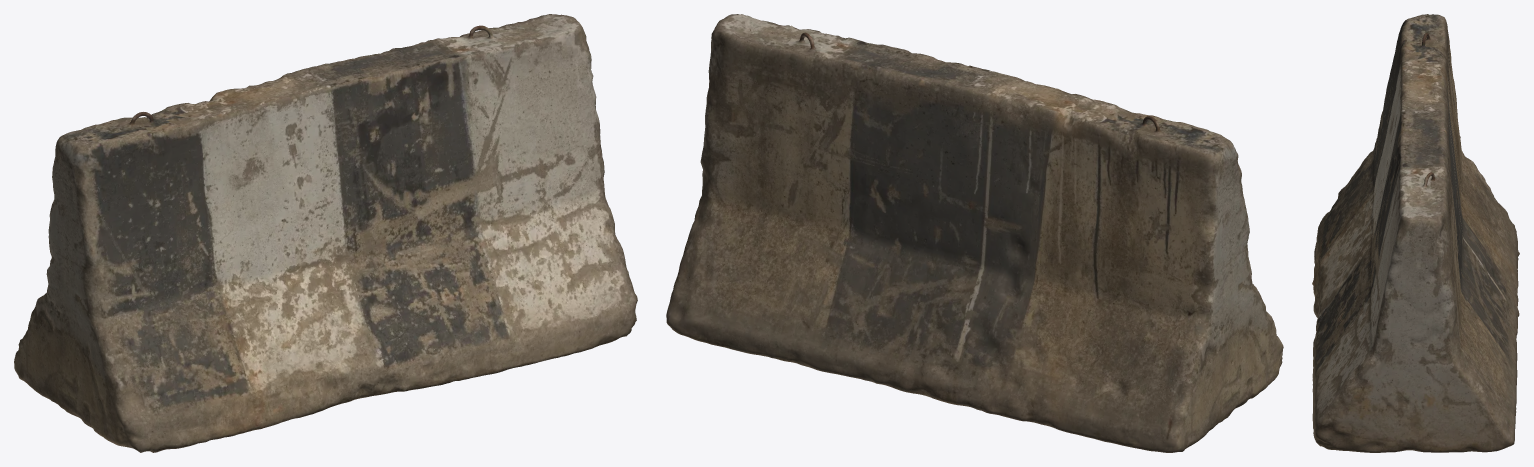
The model's file is concrete_road_barrier.glb.
3 renders of one model, left to right at view 1: azimuth 30°, elevation 25°; view 2: azimuth 150°, elevation 25°; view 3: azimuth 270°, elevation 25°, orthographic. The views are drawn at different scales.
Parts seen in each view (by area): view 1: concrete_road_barrier; view 2: concrete_road_barrier; view 3: concrete_road_barrier.
Boxes of the visible parts, bbox=[...] form: concrete_road_barrier: bbox=[14, 14, 637, 452]; concrete_road_barrier: bbox=[666, 14, 1283, 452]; concrete_road_barrier: bbox=[1312, 14, 1519, 452].
Bounding box in the file's own units: 1.55 × 0.831 × 0.6388.
1 material, 1 textured.
